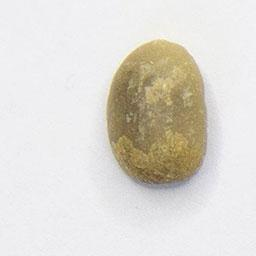longberry: (103, 36, 212, 190)
